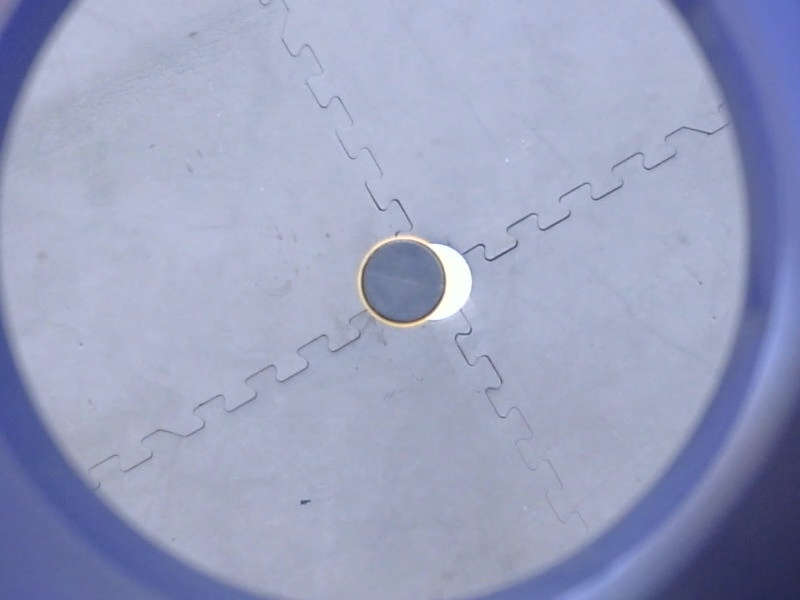tip: (350, 230, 454, 335)
